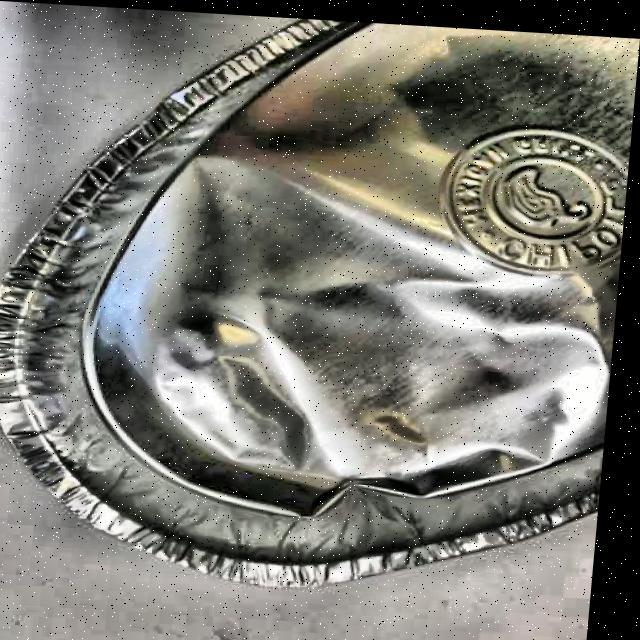metal: (0, 1, 640, 606)
